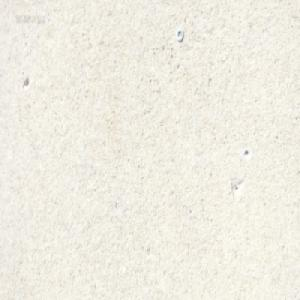Washer: (175, 28, 183, 42)
